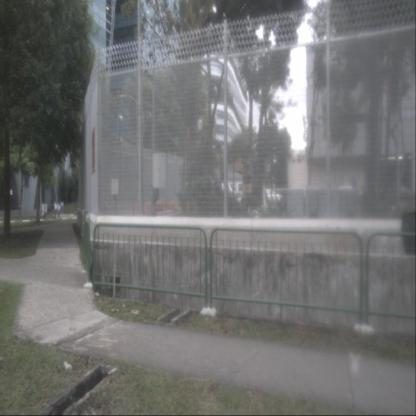human-pedestrian-adult: (53, 201, 58, 219), (57, 202, 61, 219)
